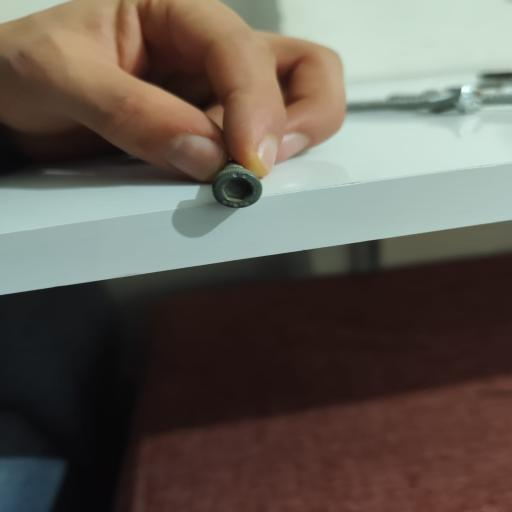Hex-Allen: (213, 167, 266, 209)
